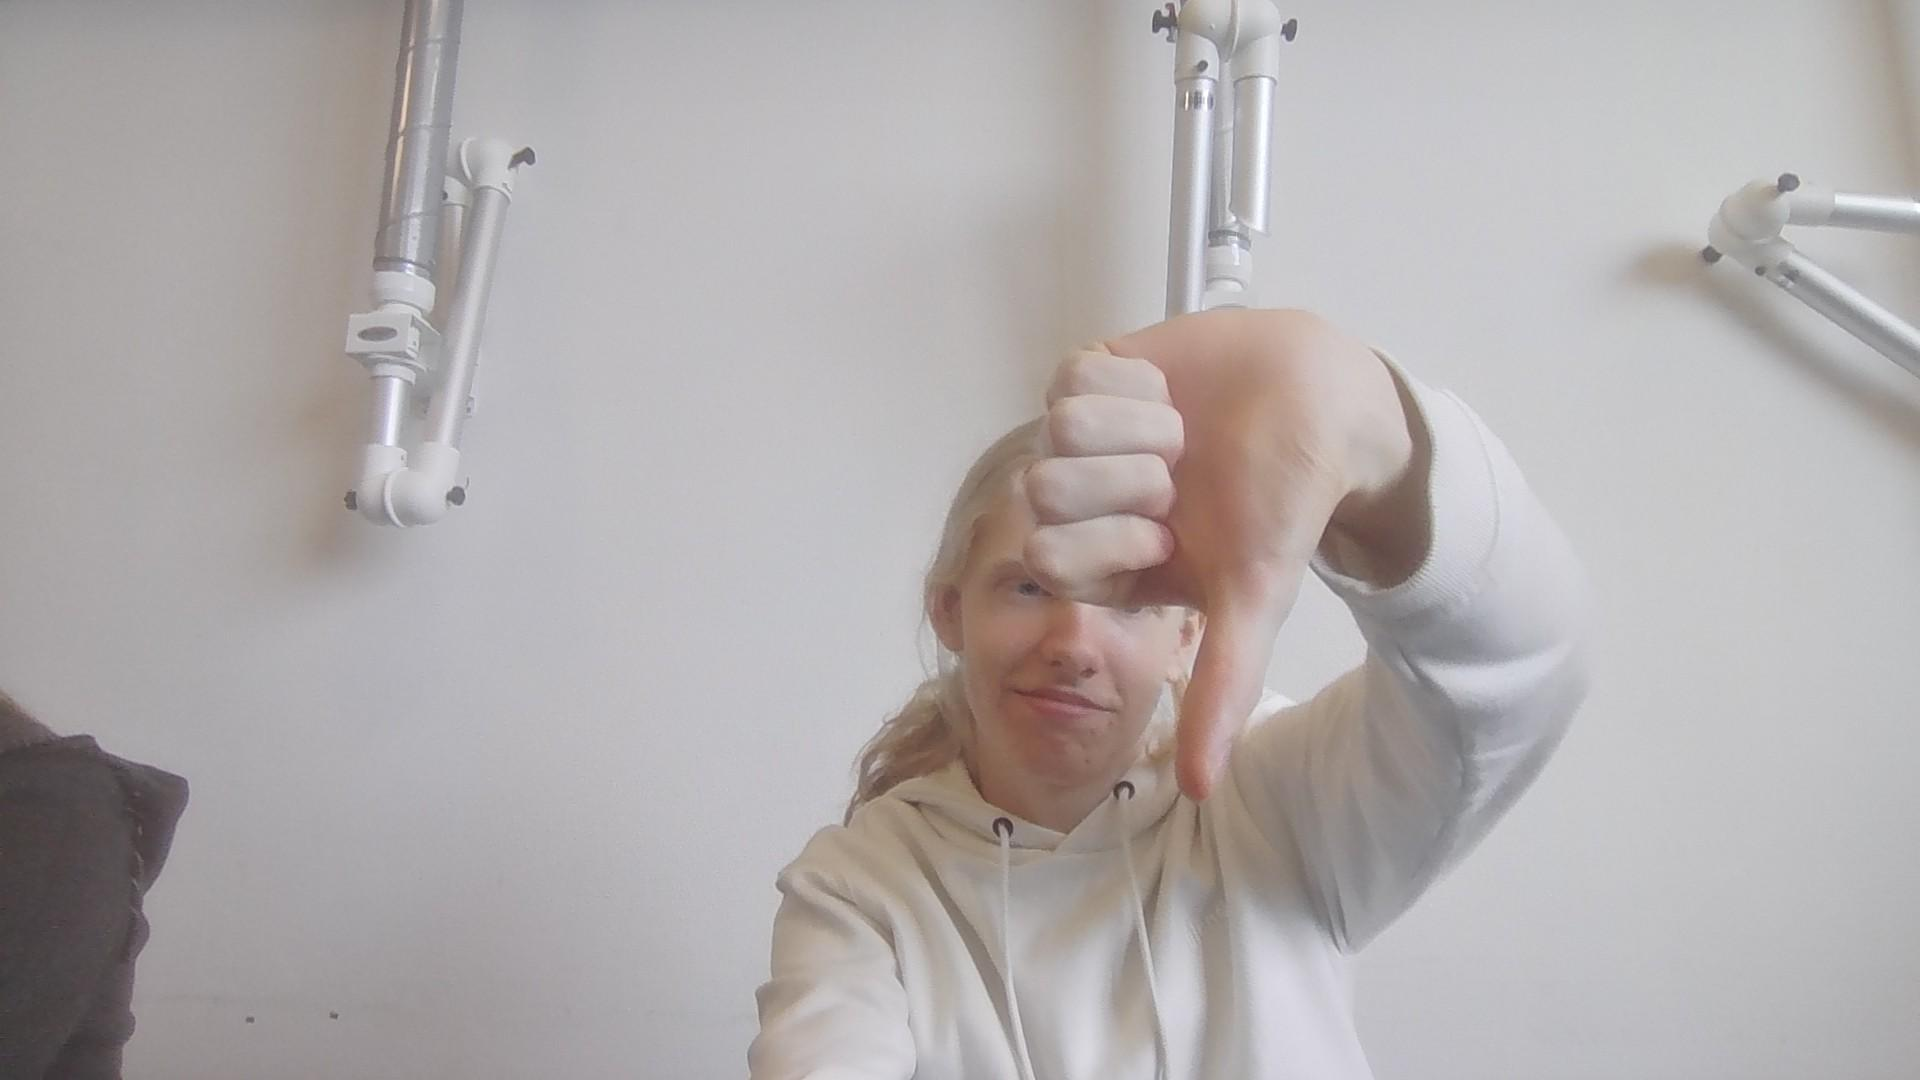thumbs down: (1021, 303, 1373, 783)
